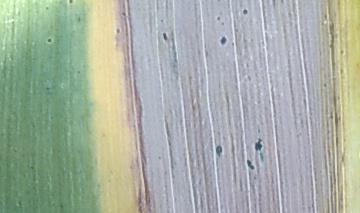tarspot: (251, 137, 266, 163), (243, 158, 257, 171), (218, 34, 230, 46), (45, 36, 56, 47), (160, 31, 170, 43), (215, 144, 223, 158), (240, 7, 252, 16), (338, 46, 346, 57), (115, 26, 123, 35), (321, 81, 329, 90), (43, 5, 52, 12), (120, 10, 127, 18), (215, 15, 222, 23), (64, 1, 76, 5)
